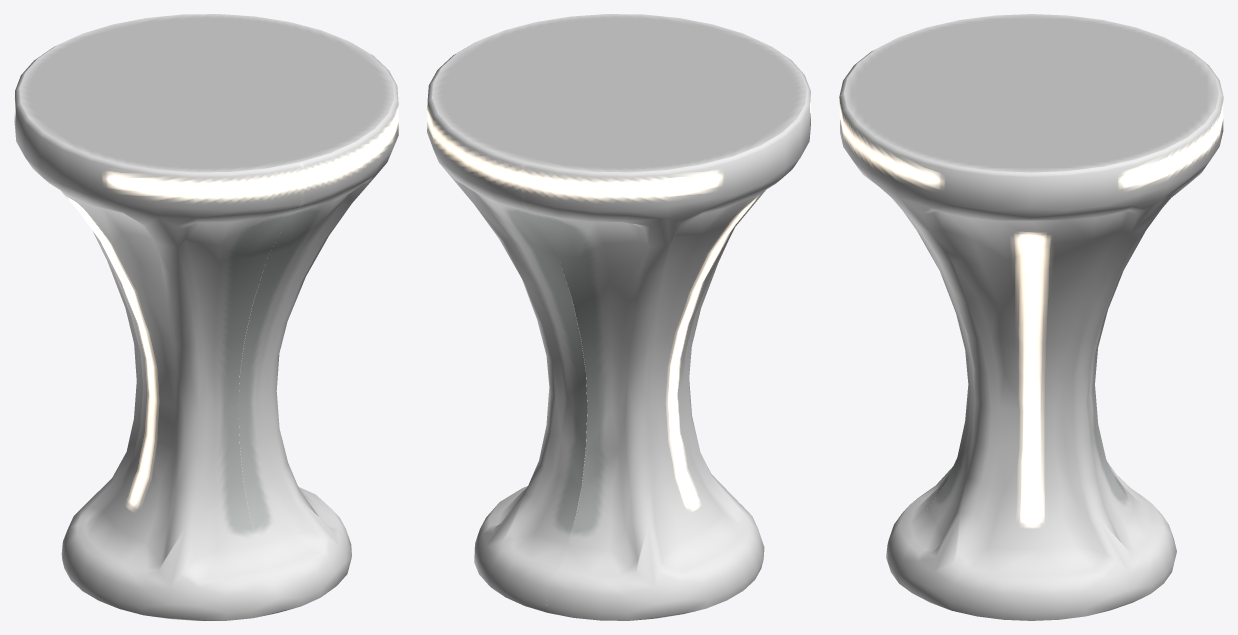
File: table_round_a.glb
3 views of the same model, side by side, from view 1: azimuth 30°, elevation 25°; view 2: azimuth 150°, elevation 25°; view 3: azimuth 270°, elevation 25° (orthographic).
Parts seen in each view (by area): view 1: table_round; view 2: table_round; view 3: table_round.
Boxes of the visible parts, x1,y1,x2,y2 form: table_round: (14, 14, 398, 620); table_round: (427, 14, 810, 620); table_round: (839, 14, 1223, 620).
Bounding box in the file's own units: 0.8222 × 1.1 × 0.8202.
Materials: 1 (1 with a texture image).
